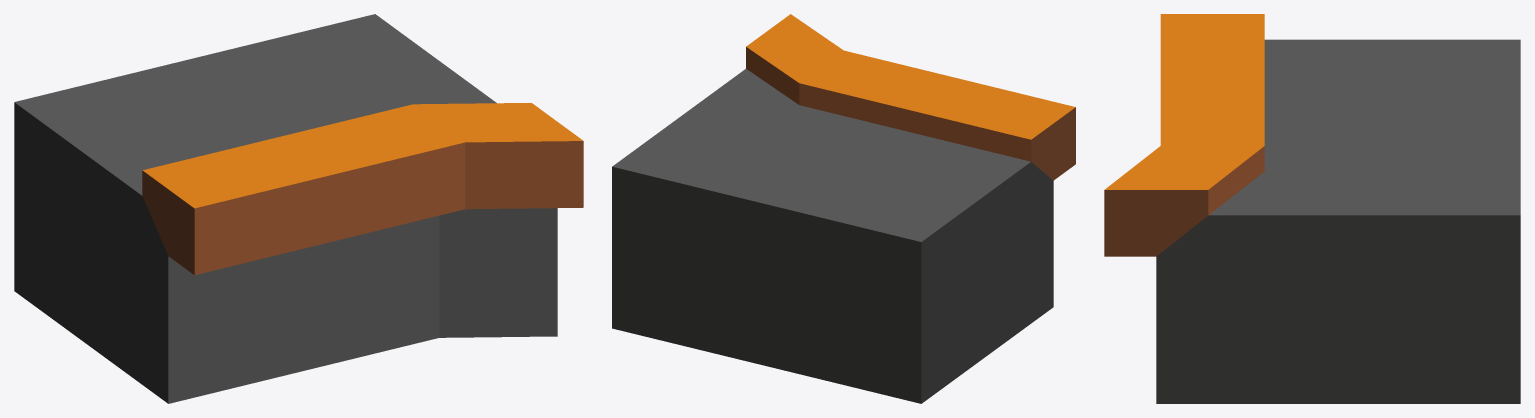
The model's file is COSMIC_F_Perimeter_1U_Convex_R.fbx.
The picture shows the model from 3 angles, left to right: view 1: azimuth 30°, elevation 25°; view 2: azimuth 150°, elevation 25°; view 3: azimuth 270°, elevation 25°; orthographic projection. The views are drawn at different scales.
Visible parts, largest first — view 1: COSMIC_F_Perimeter_1U_Convex_R; view 2: COSMIC_F_Perimeter_1U_Convex_R; view 3: COSMIC_F_Perimeter_1U_Convex_R.
Boxes of the visible parts, <box> form: COSMIC_F_Perimeter_1U_Convex_R: <box>14,14,583,403</box>; COSMIC_F_Perimeter_1U_Convex_R: <box>612,14,1075,403</box>; COSMIC_F_Perimeter_1U_Convex_R: <box>1104,14,1520,403</box>.
Bounding box in the file's own units: 0.5 × 0.2839 × 0.5.
